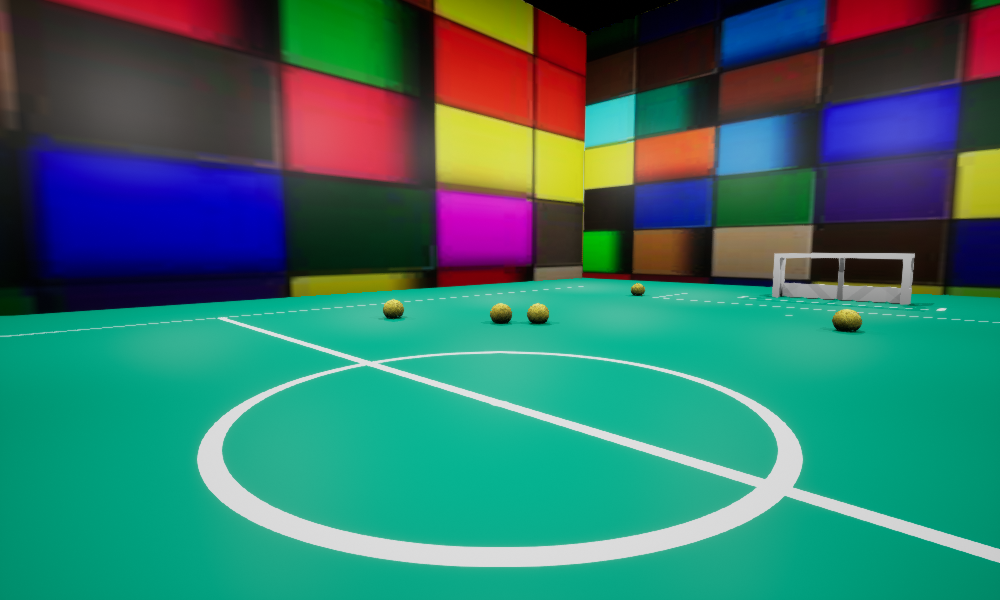b: (832, 309, 861, 331), (527, 303, 548, 323), (490, 303, 511, 322), (383, 299, 403, 318), (631, 283, 644, 295)
g: (772, 253, 914, 304)
